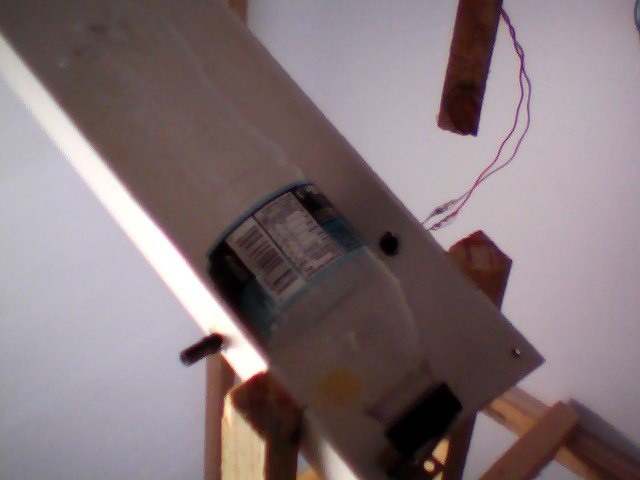plastico: (42, 1, 474, 457)
